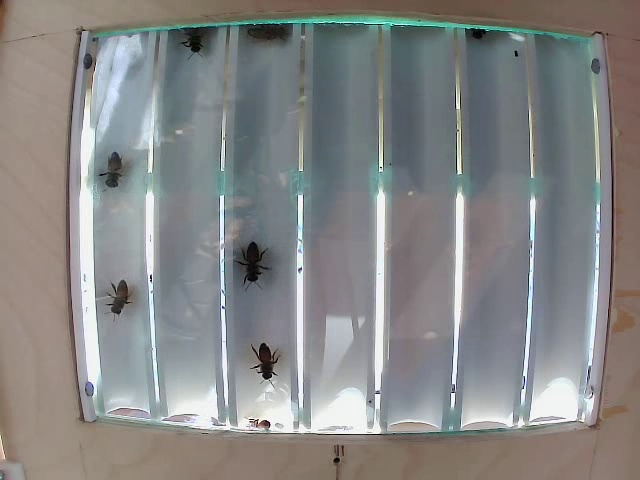bee: (246, 313, 288, 379), (227, 232, 269, 290), (99, 270, 142, 318), (95, 161, 142, 199)
